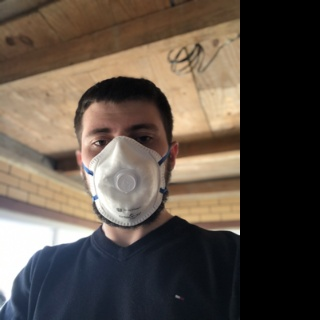with_mask: (83, 115, 170, 228)
